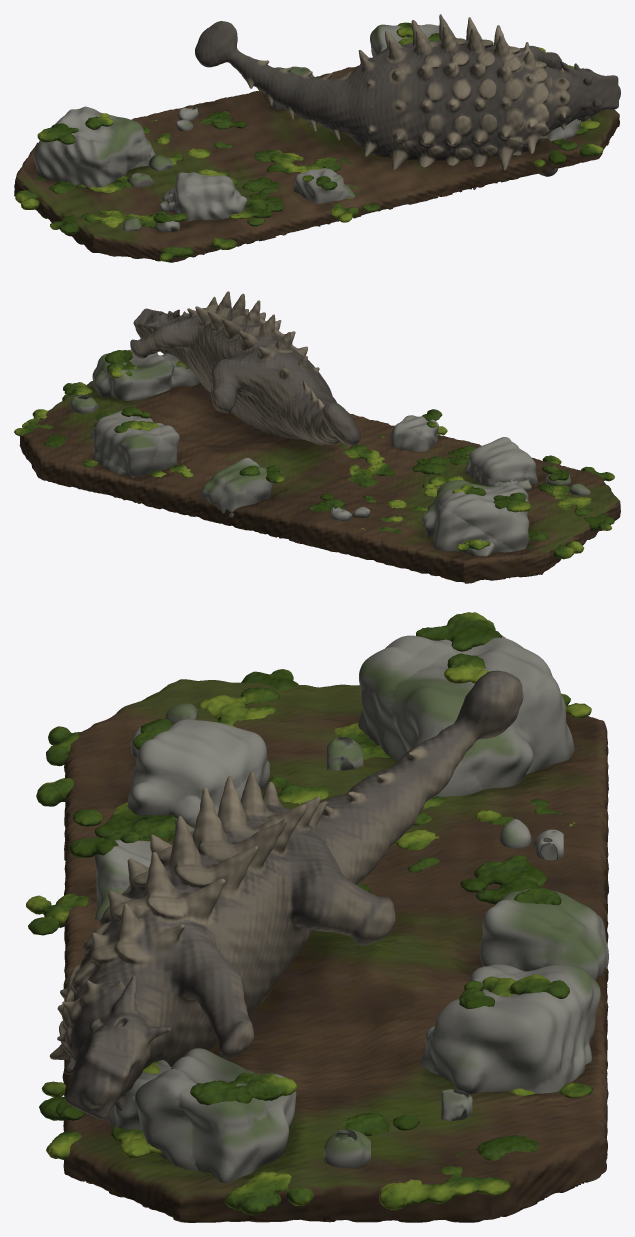
The model's file is diorama.glb.
The picture shows the model from 3 angles, top to bottom: view 1: azimuth 30°, elevation 25°; view 2: azimuth 150°, elevation 25°; view 3: azimuth 270°, elevation 25°; orthographic projection. The views are drawn at different scales.
Visible parts, largest first — view 1: ankylosaurus, terrain, rocks, moss; view 2: terrain, rocks, ankylosaurus, moss; view 3: terrain, rocks, ankylosaurus, moss.
Boxes of the visible parts, x1,y1,x2,y2 form: ankylosaurus: (195, 14, 620, 189); terrain: (14, 44, 619, 262); rocks: (33, 24, 594, 231); moss: (15, 22, 603, 261); terrain: (19, 381, 620, 583); rocks: (70, 349, 590, 556); ankylosaurus: (130, 291, 360, 445); moss: (14, 350, 614, 559); terrain: (62, 679, 608, 1222); rocks: (94, 635, 608, 1183); ankylosaurus: (49, 670, 523, 1119); moss: (26, 612, 592, 1215).
Bounding box in the file's own units: 12.29 × 3.35 × 5.6.
